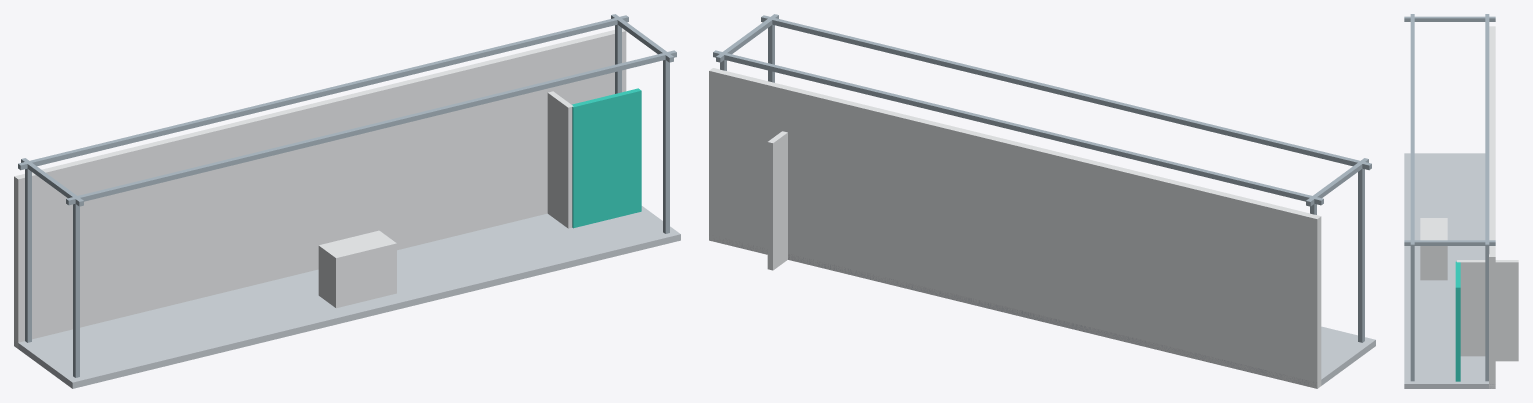
The picture shows the model from 3 angles, left to right: view 1: azimuth 30°, elevation 25°; view 2: azimuth 150°, elevation 25°; view 3: azimuth 270°, elevation 25°; orthographic projection. The views are drawn at different scales.
Parts seen in each view (by area): view 1: Exhibition Booth Concept; view 2: Exhibition Booth Concept; view 3: Exhibition Booth Concept.
Part boxes in pixels (x1,y1,x2,y2): Exhibition Booth Concept: (14, 14, 680, 388); Exhibition Booth Concept: (709, 14, 1375, 388); Exhibition Booth Concept: (1404, 14, 1518, 388).
Size of the model in its own units: 12 by 3.49 by 2.5.
